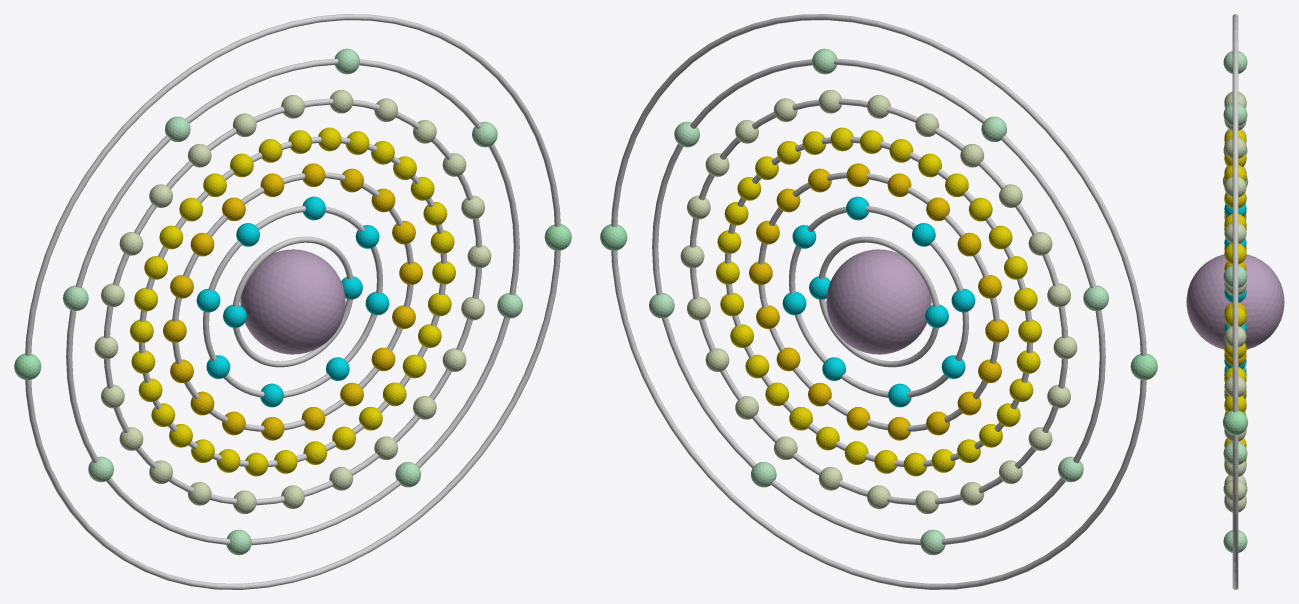
3 renders of one model, left to right at view 1: azimuth 30°, elevation 25°; view 2: azimuth 150°, elevation 25°; view 3: azimuth 270°, elevation 25°, orthographic. The views are drawn at different scales.
Parts seen in each view (by area): view 1: world; view 2: world; view 3: world.
Part boxes in pixels (x1,y1,x2,y2): world: (14,14,571,589); world: (600,14,1157,589); world: (1186,14,1284,589).
Bounding box in the file's own units: 2.67 × 2.59 × 0.44.
